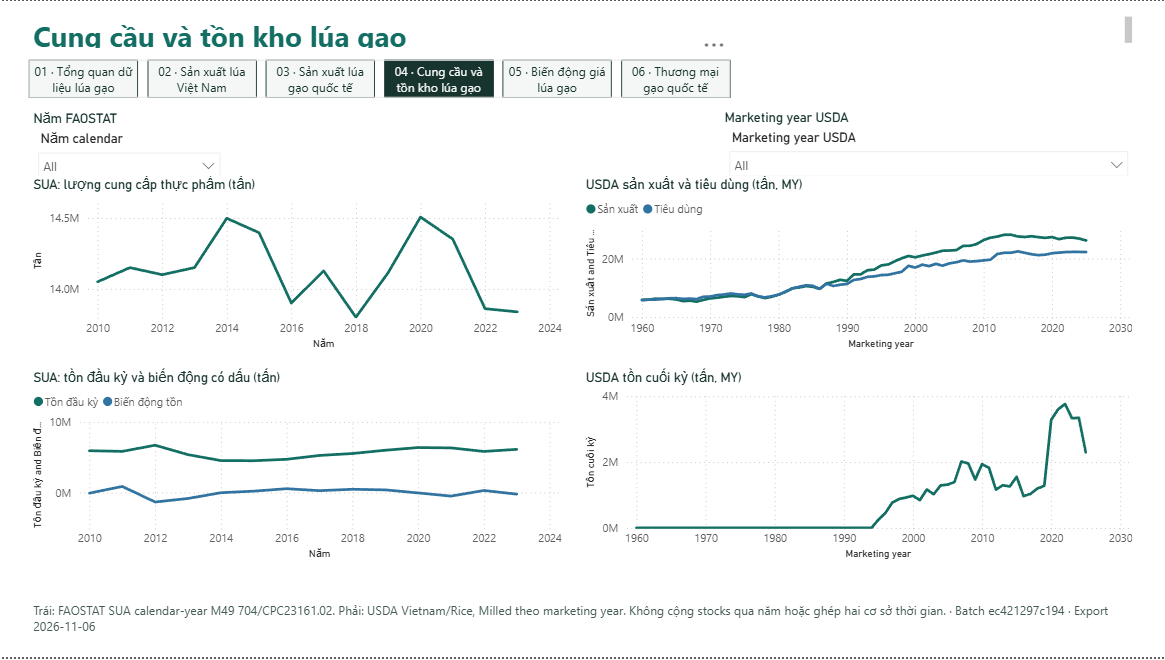

This screenshot's page, from the dashboard's own definition file:
{"tool":"powerbi","page":{"name":"04 · Cung cầu và tồn kho lúa gạo","canvas":[1280,720],"ordinal":3},"visuals":[{"type":"textbox","box":[32,12,1216,44],"z":1},{"type":"pageNavigator","box":[32,64,770,42],"z":2},{"type":"slicer","title":"Năm FAOSTAT","fields":{"Values":["CalendarYear.Year"]},"box":[32,120,220,72],"z":3},{"type":"slicer","title":"Marketing year USDA","fields":{"Values":["PSD.market_year"]},"box":[790,120,458,72],"z":4},{"type":"lineChart","title":"SUA: lượng cung cấp thực phẩm (tấn)","fields":{"Category":["CalendarYear.Year"],"Y":["Overview.SUA Food Supply"]},"box":[32,192,590,195],"z":5},{"type":"lineChart","title":"USDA sản xuất và tiêu dùng (tấn, MY)","fields":{"Category":["PSD.market_year"],"Y":["Overview.PSD Production","Overview.PSD Consumption"]},"box":[638,192,610,195],"z":6},{"type":"lineChart","title":"SUA: tồn đầu kỳ và biến động có dấu (tấn)","fields":{"Category":["CalendarYear.Year"],"Y":["Overview.SUA Opening Stocks","Overview.SUA Stock Variation"]},"box":[32,404,590,215],"z":7},{"type":"lineChart","title":"USDA tồn cuối kỳ (tấn, MY)","fields":{"Category":["PSD.market_year"],"Y":["Overview.PSD Ending Stocks"]},"box":[638,404,610,215],"z":8},{"type":"textbox","box":[32,654,1216,56],"z":90}]}

Visuals, with their boxes in screenshot pixels (x1, y1, x2, y2), scaled from the page's 1280x720 canvas onto the 1165x660 screenshot:
textbox: (left=29, top=11, right=1136, bottom=51)
pageNavigator: (left=29, top=59, right=730, bottom=97)
"Năm FAOSTAT" slicer: (left=29, top=110, right=229, bottom=176)
"Marketing year USDA" slicer: (left=719, top=110, right=1136, bottom=176)
"SUA: lượng cung cấp thực phẩm (tấn)" lineChart: (left=29, top=176, right=566, bottom=355)
"USDA sản xuất và tiêu dùng (tấn, MY)" lineChart: (left=581, top=176, right=1136, bottom=355)
"SUA: tồn đầu kỳ và biến động có dấu (tấn)" lineChart: (left=29, top=370, right=566, bottom=567)
"USDA tồn cuối kỳ (tấn, MY)" lineChart: (left=581, top=370, right=1136, bottom=567)
textbox: (left=29, top=600, right=1136, bottom=651)
